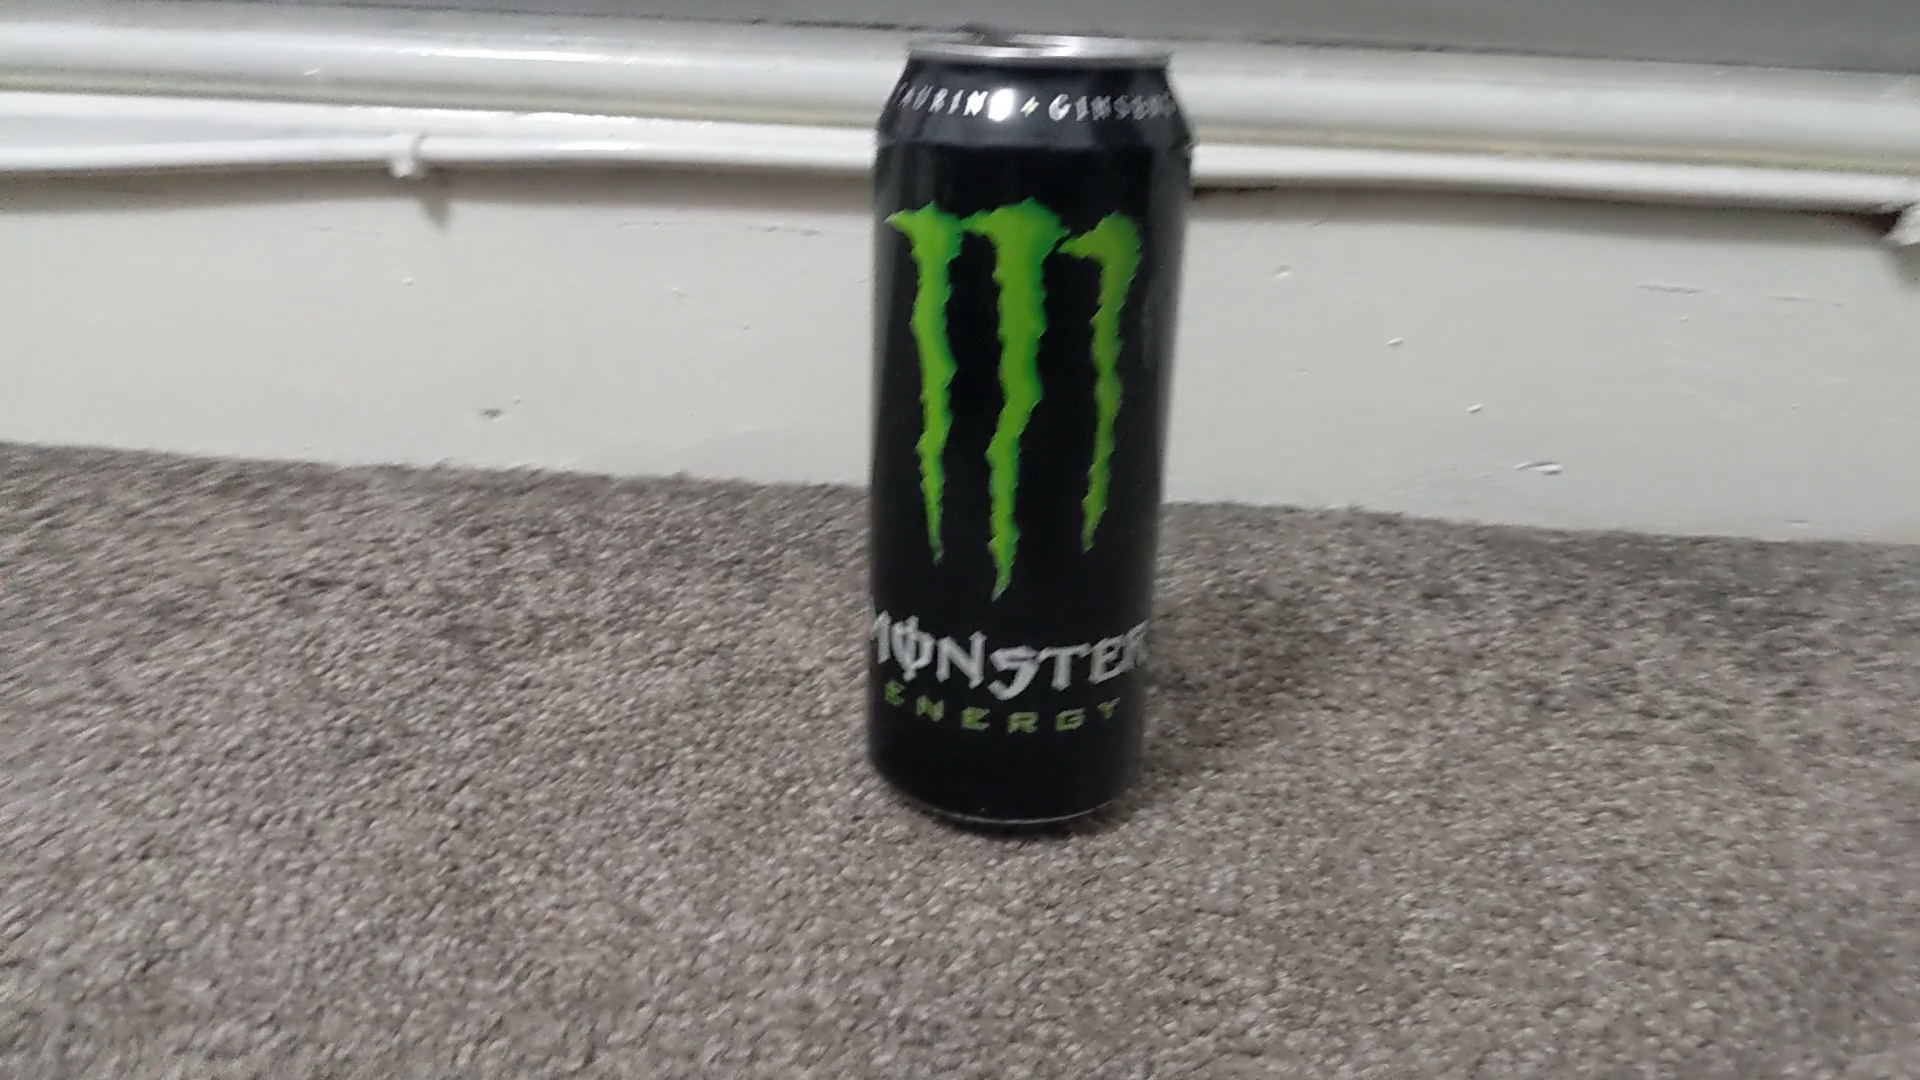monster-original: (866, 41, 1196, 832)
